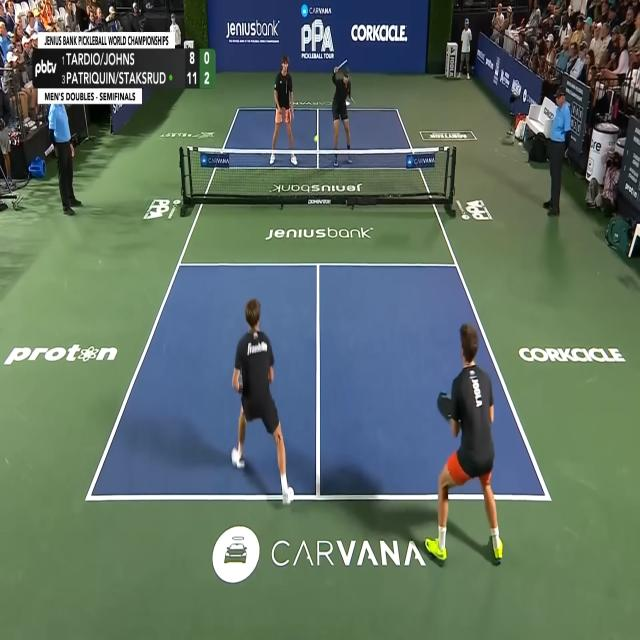ball: (314, 134, 318, 142)
